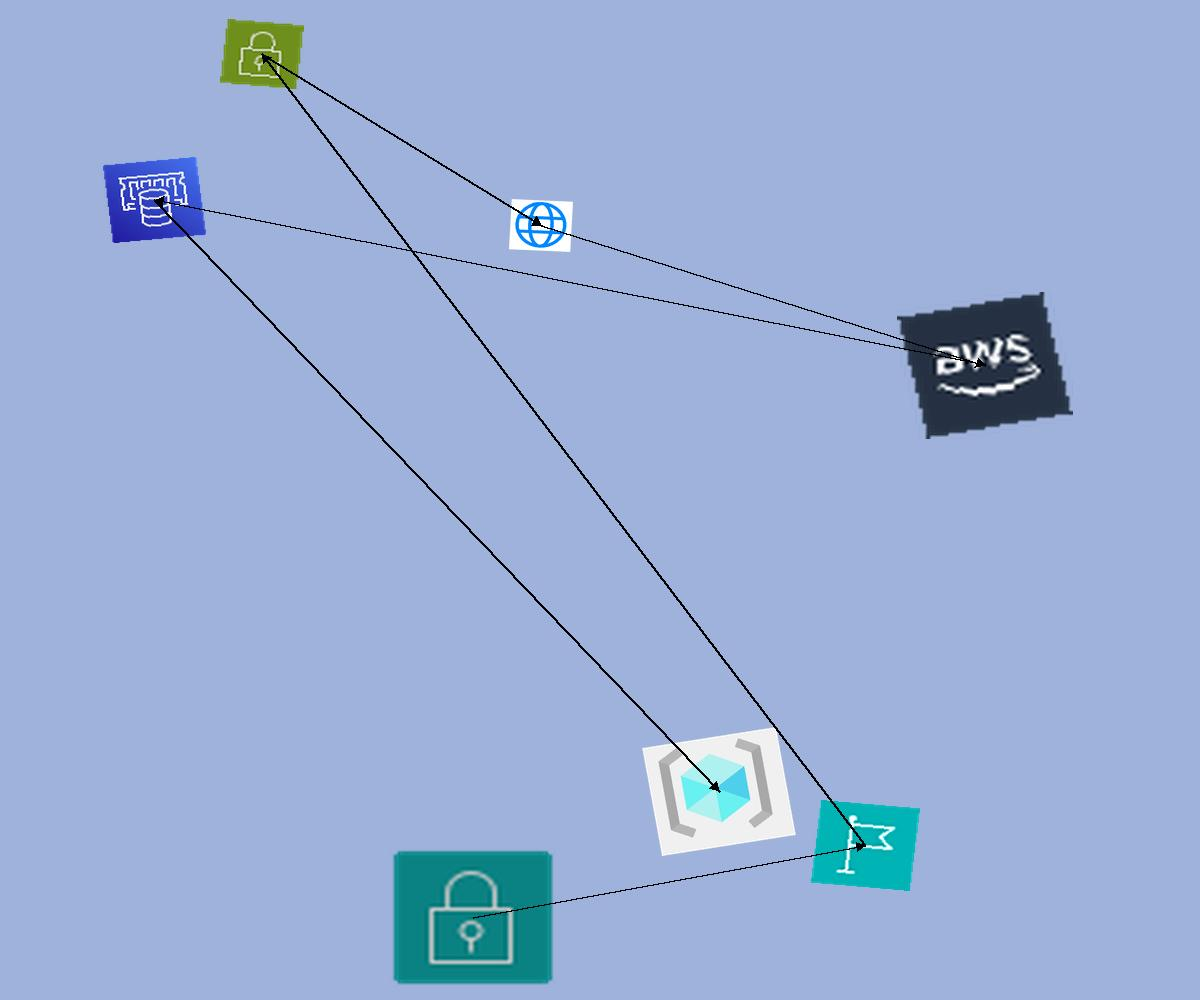AWS-Cloud-logo: (897, 292, 1073, 439)
AWS-ElastiCache: (102, 156, 207, 244)
AWS-Private-subnet: (390, 848, 556, 987)
AWS-Public-subnet: (220, 19, 304, 89)
AWS-Region: (811, 800, 920, 891)
Azure_http: (509, 199, 573, 252)
Azure_resource_group: (642, 727, 796, 856)
